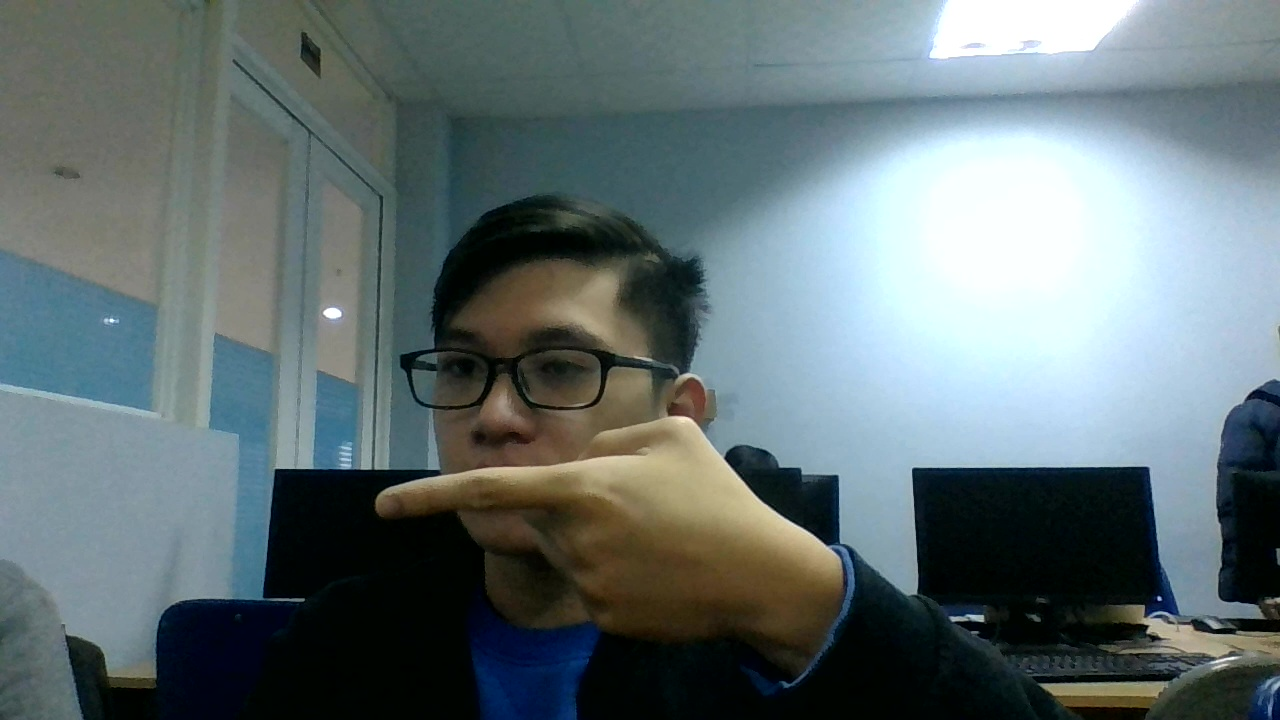right: (373, 412, 752, 664)
